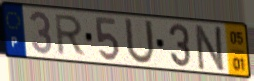3: (28, 9, 54, 57), (168, 22, 193, 70)
5: (93, 15, 122, 62)
N: (194, 24, 228, 74)
R: (54, 13, 88, 58)
U: (123, 16, 157, 67)
